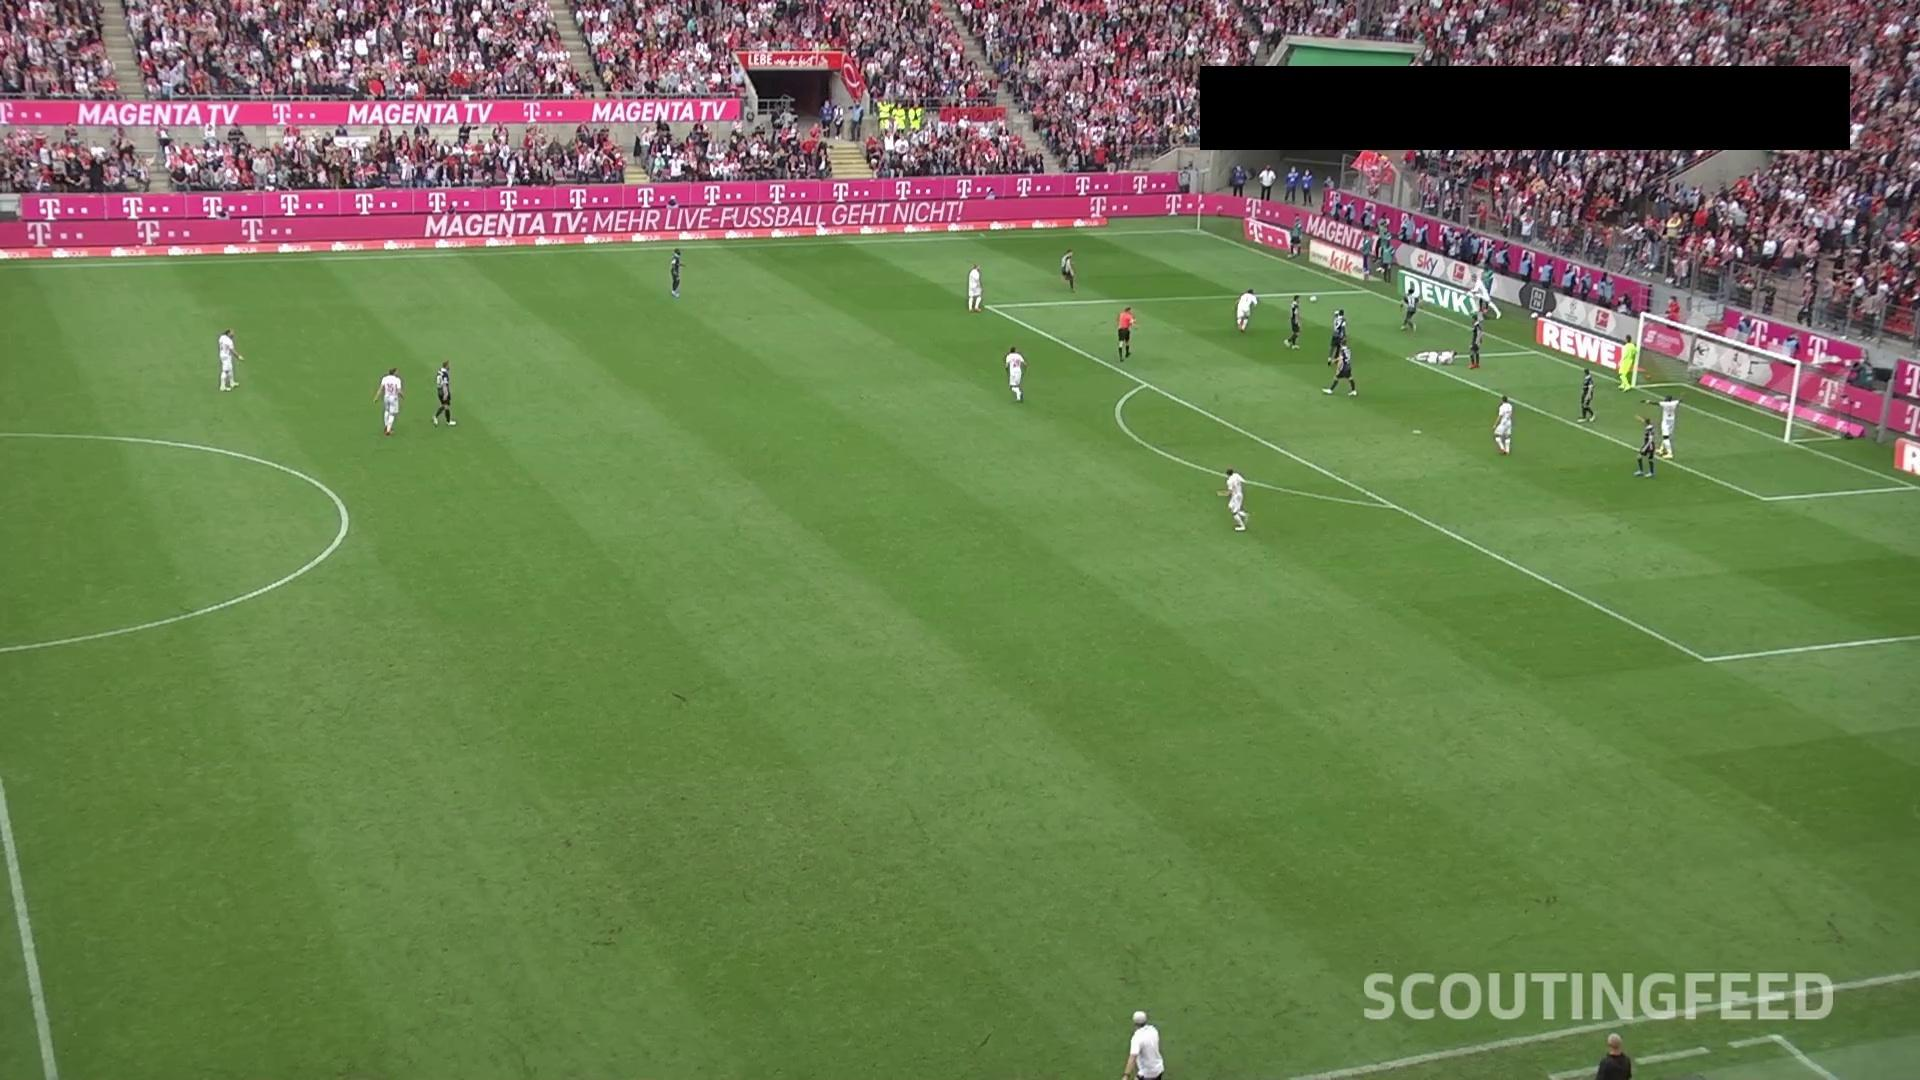Location-of-ball: (1304, 285, 1331, 309)
